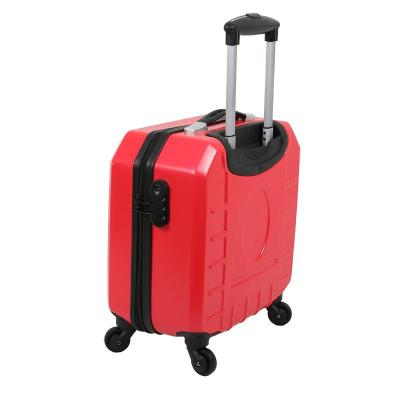luggage: (107, 11, 310, 377)
